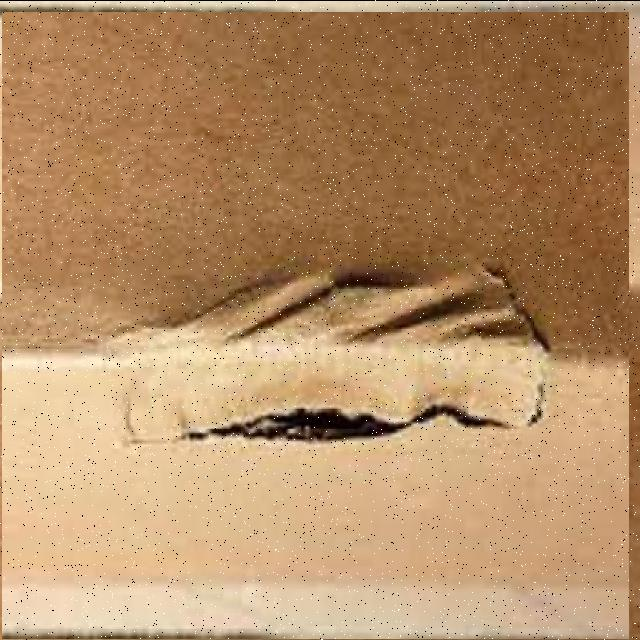defect: (2, 11, 629, 638)
